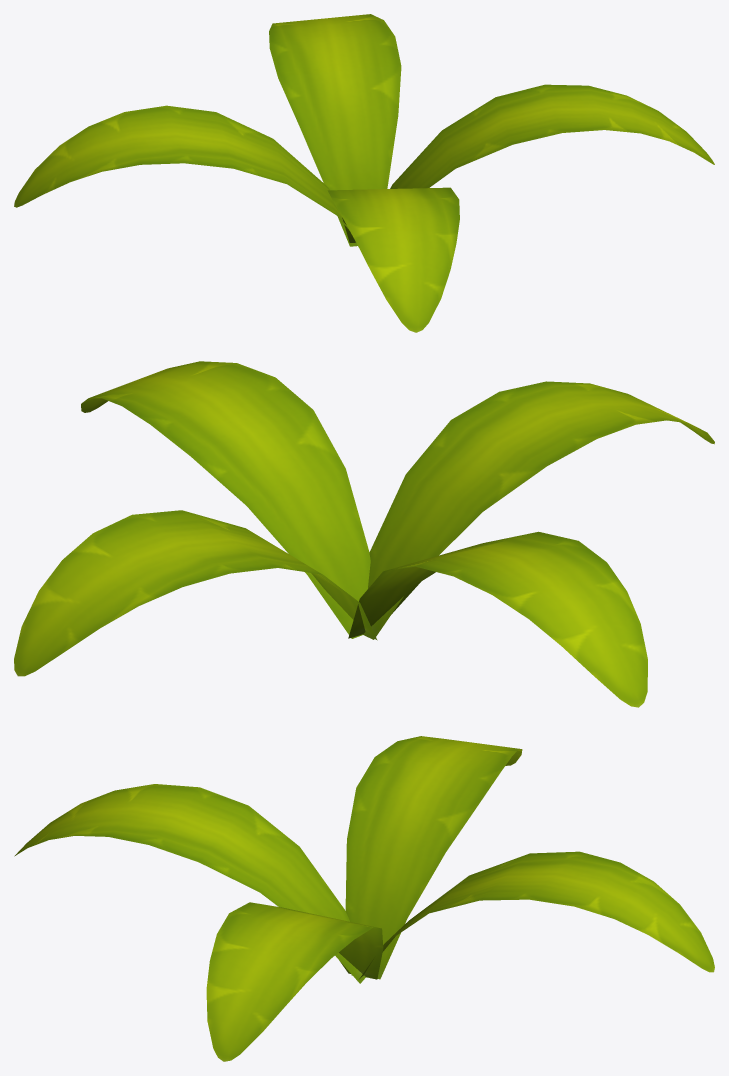
Rendered from BushPalm_03.FBX.
3 views of the same model, one above another, from view 1: azimuth 30°, elevation 25°; view 2: azimuth 150°, elevation 25°; view 3: azimuth 270°, elevation 25° (orthographic). The views are drawn at different scales.
Visible parts, largest first — view 1: BushPalm_03; view 2: BushPalm_03; view 3: BushPalm_03.
Boxes of the visible parts, x1=… form: BushPalm_03: x1=14, y1=14, x2=714, y2=332; BushPalm_03: x1=14, y1=361, x2=714, y2=707; BushPalm_03: x1=14, y1=736, x2=714, y2=1061.
Bounding box in the file's own units: 286 × 60.19 × 285.
